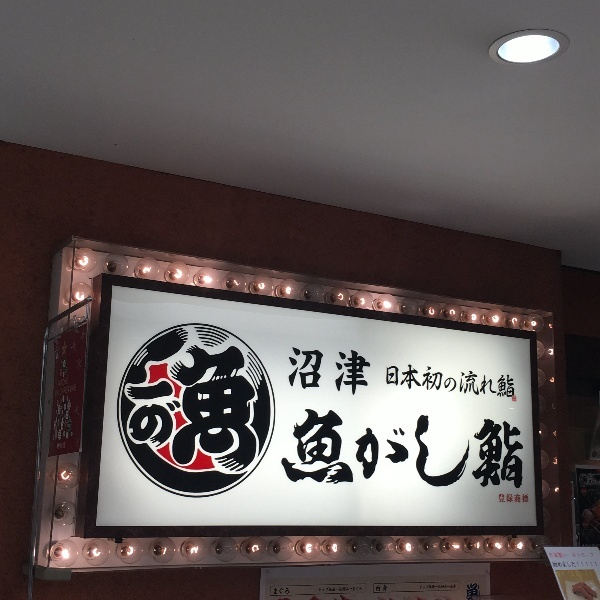text: (129, 319, 144, 469), (145, 319, 160, 469), (161, 319, 176, 469), (177, 319, 192, 469), (193, 319, 208, 469), (209, 319, 224, 469), (225, 319, 240, 469), (241, 319, 256, 469), (305, 404, 320, 492), (321, 404, 336, 492), (337, 404, 352, 492), (353, 404, 368, 492), (369, 404, 384, 492), (385, 404, 400, 492), (401, 404, 416, 492), (417, 404, 432, 492), (433, 404, 448, 492), (449, 404, 464, 492), (465, 404, 480, 492), (481, 404, 496, 492), (497, 404, 512, 492), (257, 319, 264, 469), (513, 404, 524, 492), (289, 344, 304, 399), (305, 344, 320, 399), (321, 344, 336, 399), (337, 344, 352, 399), (353, 344, 368, 399), (295, 404, 304, 492), (123, 319, 128, 469), (385, 360, 400, 401), (401, 360, 416, 401), (417, 360, 432, 401), (433, 360, 448, 401), (449, 360, 464, 401), (465, 360, 480, 401), (481, 360, 496, 401), (497, 360, 512, 401), (466, 583, 480, 600), (369, 344, 372, 399), (513, 360, 517, 401), (513, 494, 529, 504), (273, 586, 288, 596), (580, 474, 592, 486), (67, 383, 80, 394), (498, 494, 512, 504), (321, 586, 336, 594), (337, 586, 352, 594), (561, 552, 576, 559), (577, 552, 592, 559), (561, 561, 576, 568), (577, 561, 592, 568), (433, 584, 448, 590), (593, 474, 600, 486), (353, 586, 363, 594), (549, 552, 560, 559), (420, 584, 432, 590), (376, 585, 384, 593), (552, 561, 560, 568), (57, 442, 64, 450), (287, 344, 288, 399), (449, 584, 456, 590), (593, 561, 598, 568), (385, 585, 388, 593), (289, 586, 291, 596), (319, 586, 320, 594), (65, 442, 66, 450), (593, 552, 594, 559)
